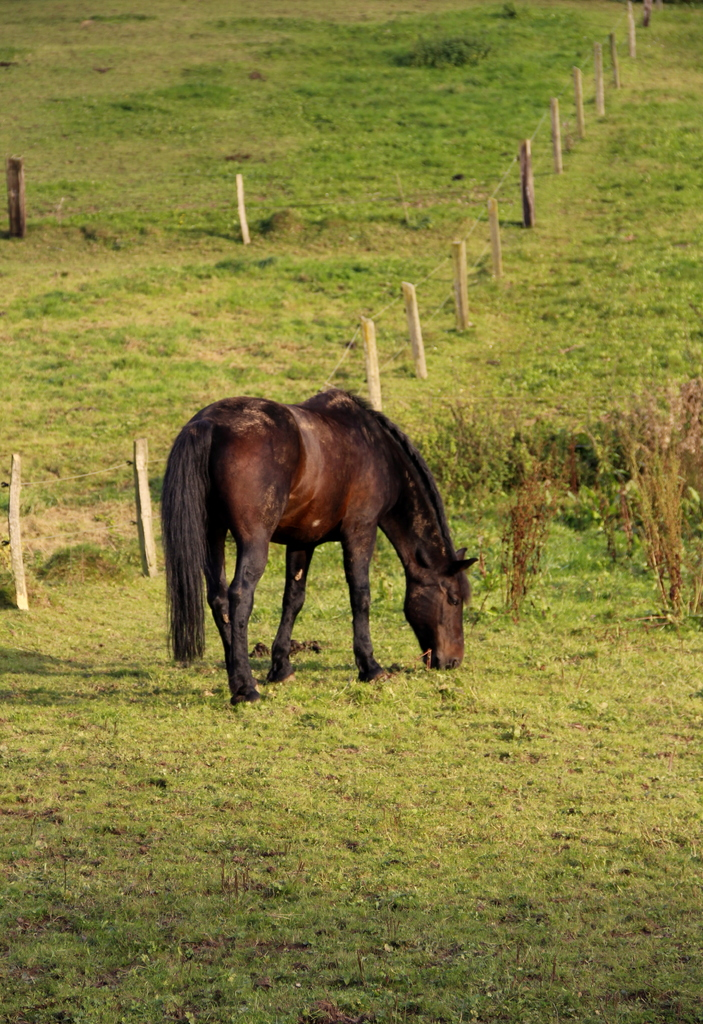horse: (154, 383, 482, 712)
